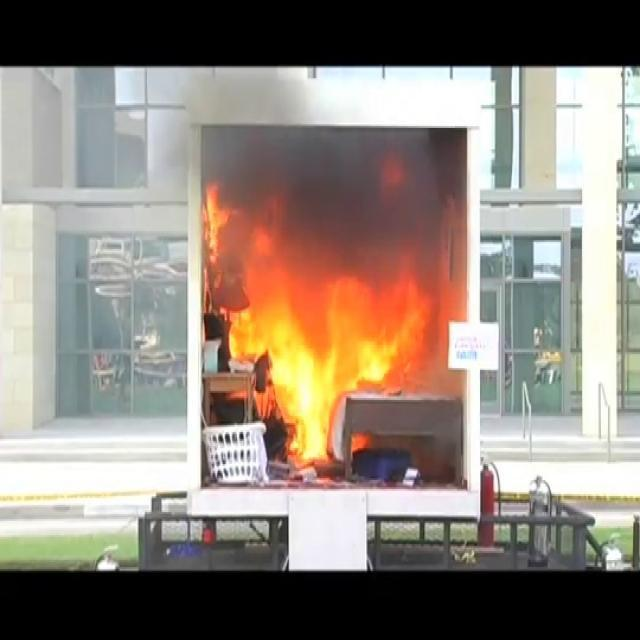Fire: (212, 230, 439, 463)
